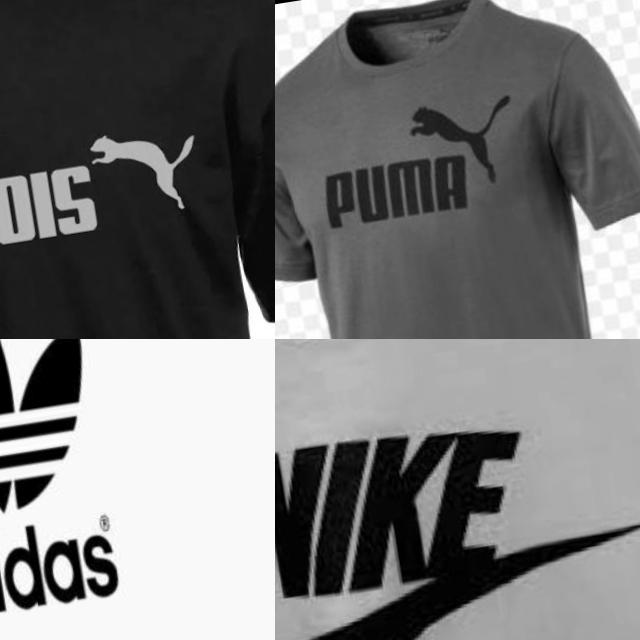ADIDAS_original: (0, 339, 170, 640), (0, 339, 108, 533), (0, 503, 135, 637)
NIKE_original: (275, 339, 640, 640)
PUMA_fake: (0, 94, 229, 316)
PUMA_original: (304, 88, 538, 237), (397, 78, 533, 198)
